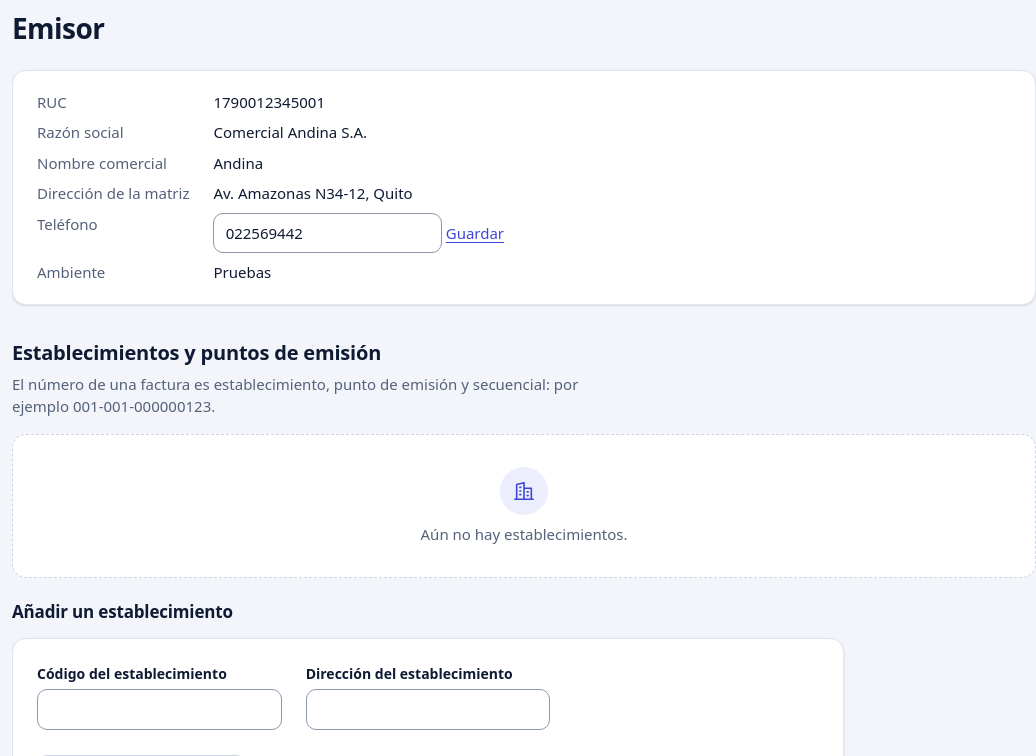
Scenario: Emisor › changes the phone of a registered taxpayer
Replace the text in the field named "Teléfono del emisor" with "+593 2 256 9442" at (328, 233), box [213,213,442,253]
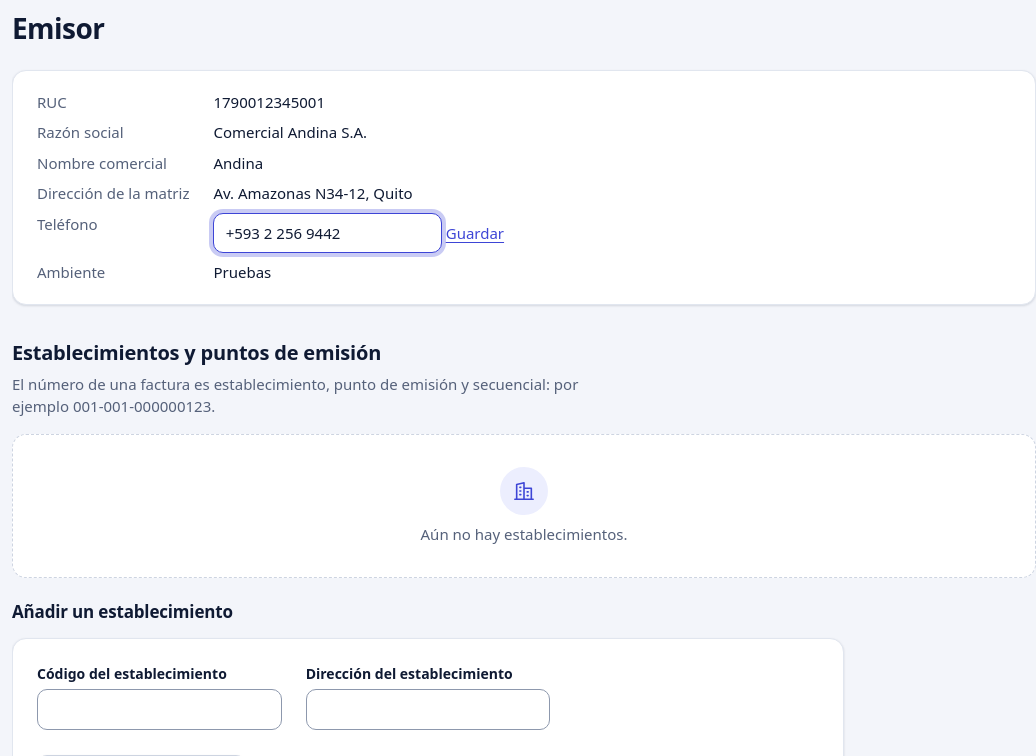
Click the button "Guardar" at (475, 233), box [446,222,504,244]
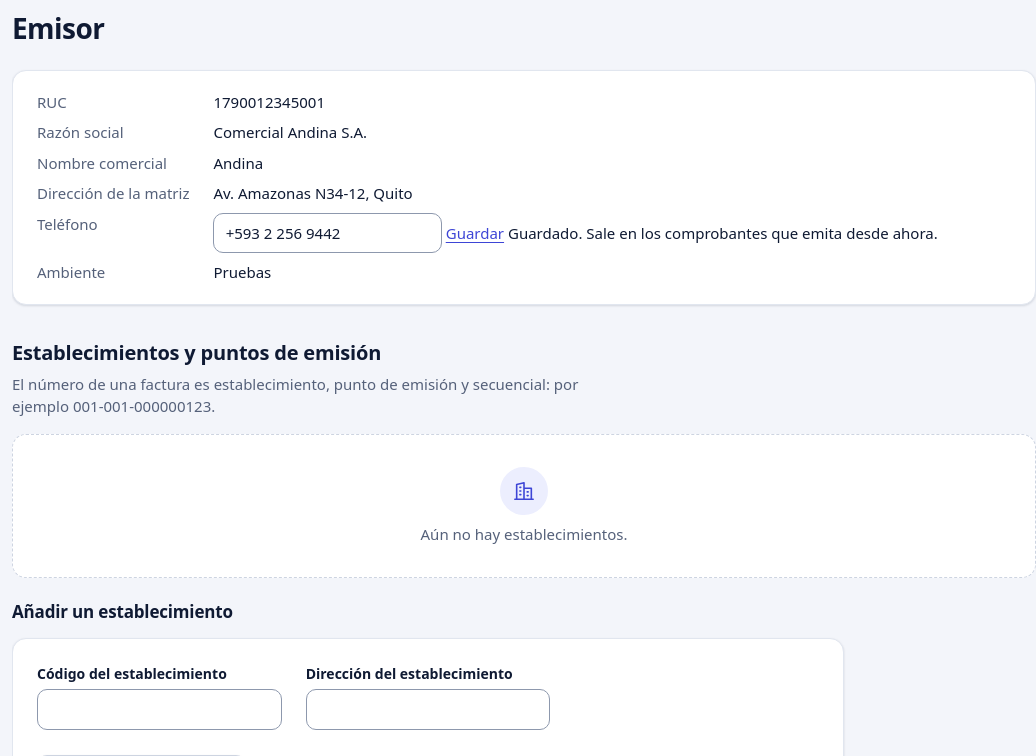
Check: the text "Guardado. Sale en los comprobantes que emita desde ahora." is shown, box [504,223,938,243]
